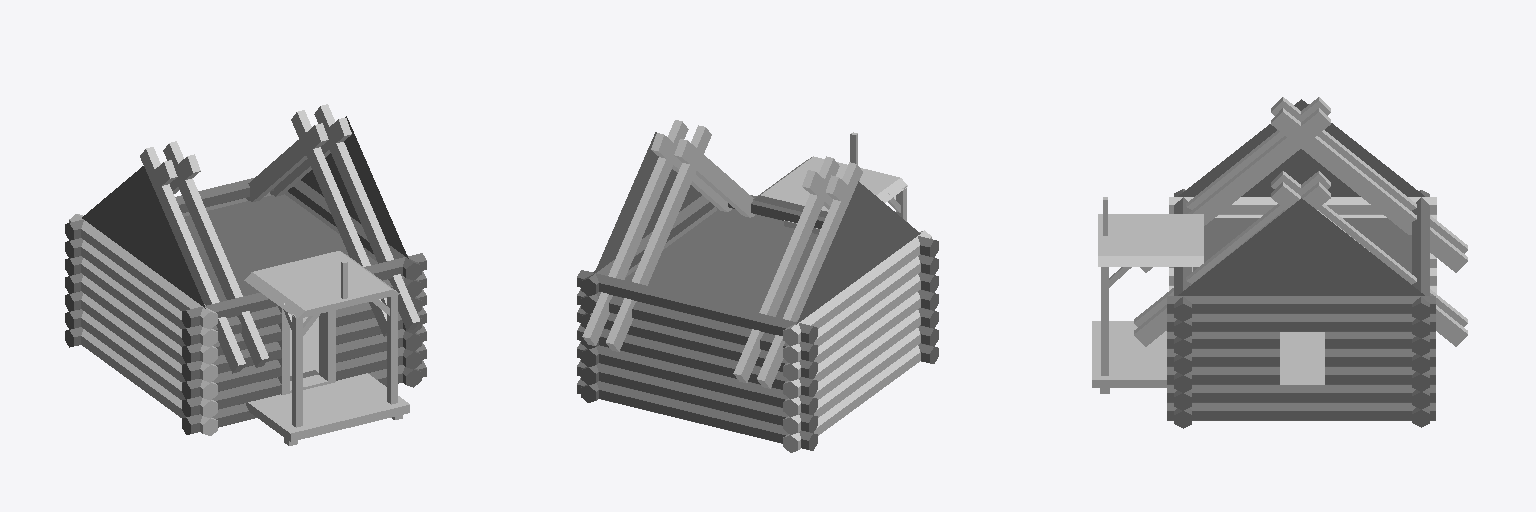
File: houseBase.obj
3 views of the same model, side by side, from view 1: azimuth 30°, elevation 25°; view 2: azimuth 150°, elevation 25°; view 3: azimuth 270°, elevation 25° (orthographic).
Parts seen in each view (by area): view 1: Plane.003; view 2: Plane.003; view 3: Plane.003.
Boxes of the visible parts, <box> form: Plane.003: <box>65,104,426,445</box>; Plane.003: <box>577,120,938,452</box>; Plane.003: <box>1092,97,1467,428</box>.
Bounding box in the file's own units: 30.5 × 28.41 × 42.11.